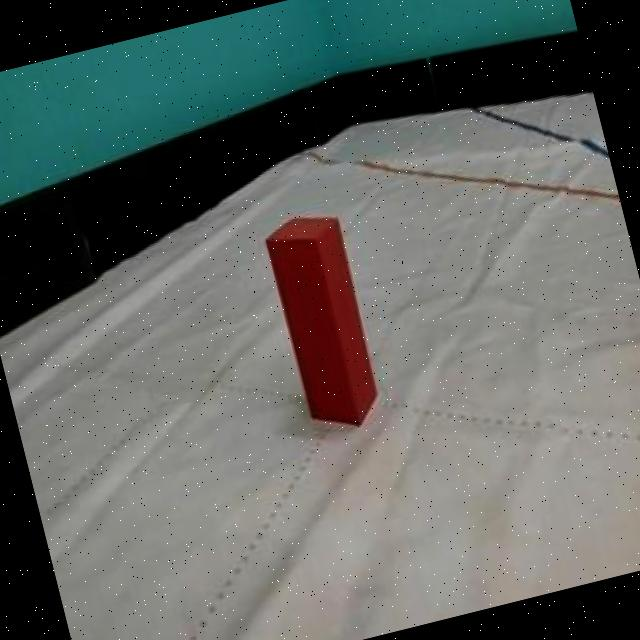redbox: (258, 203, 388, 440)
